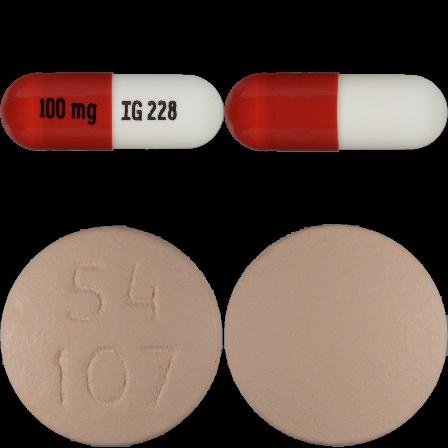68084-639: (0, 0, 224, 224)
